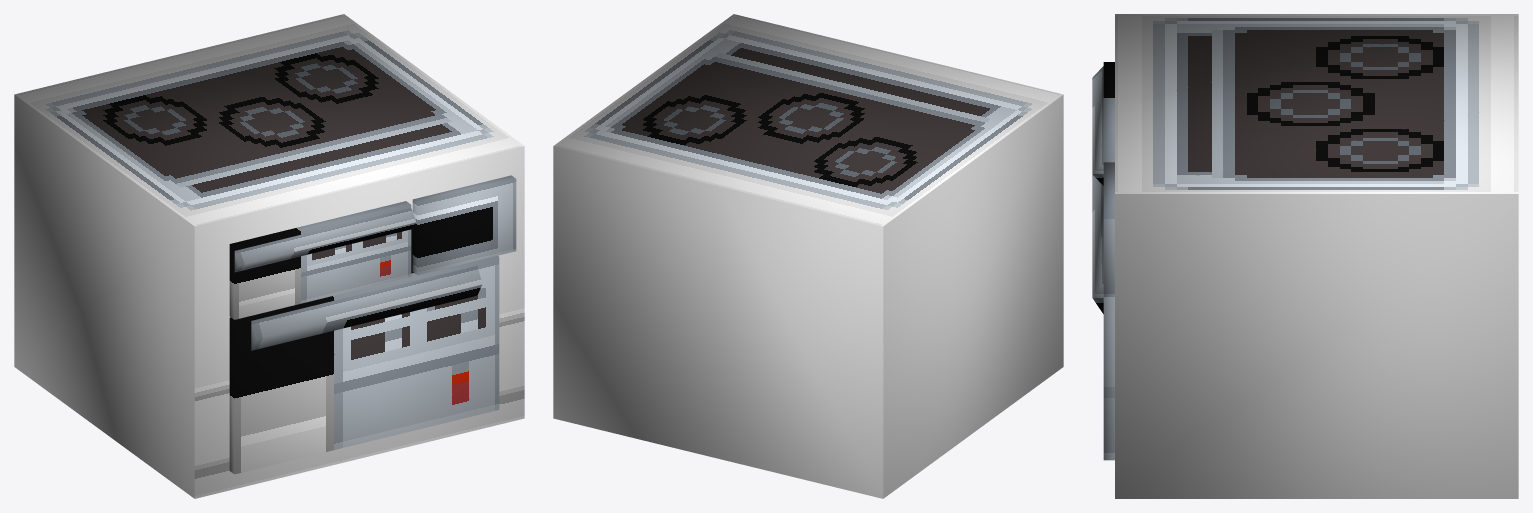
3 views of the same model, side by side, from view 1: azimuth 30°, elevation 25°; view 2: azimuth 150°, elevation 25°; view 3: azimuth 270°, elevation 25° (orthographic). The views are drawn at different scales.
Parts seen in each view (by area): view 1: 3521IMOT01_02; view 2: 3521IMOT01_02; view 3: 3521IMOT01_02.
Boxes of the visible parts, x1=… form: 3521IMOT01_02: x1=14, y1=14, x2=524, y2=498; 3521IMOT01_02: x1=553, y1=14, x2=1063, y2=498; 3521IMOT01_02: x1=1092, y1=14, x2=1518, y2=498.
Size of the model in its own units: 0.9502 by 0.75 by 0.9502.
4 materials, 4 textured.
